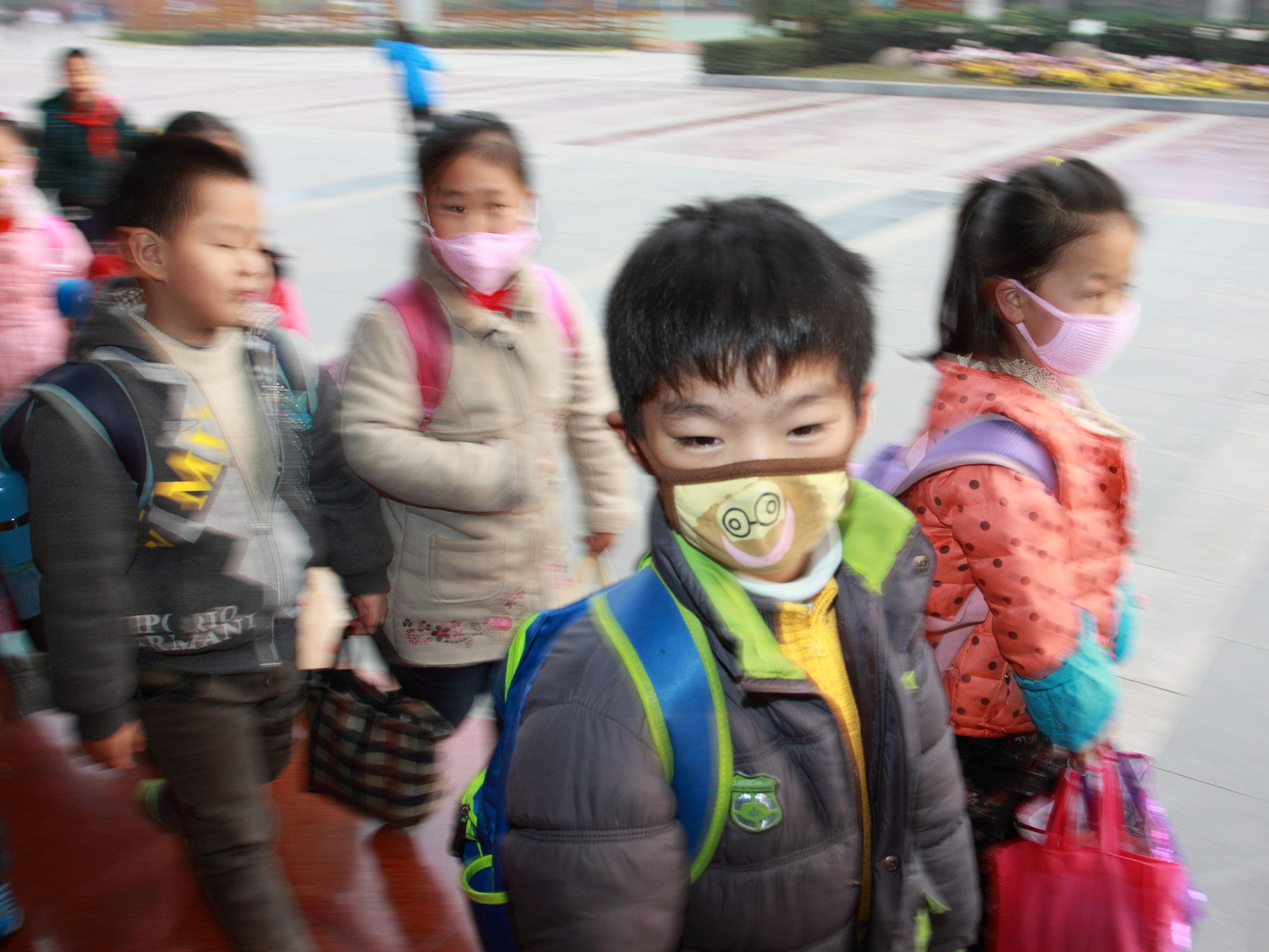NONE: (167, 222, 276, 325)
OK: (658, 381, 849, 572), (998, 254, 1137, 377), (438, 187, 529, 290)
